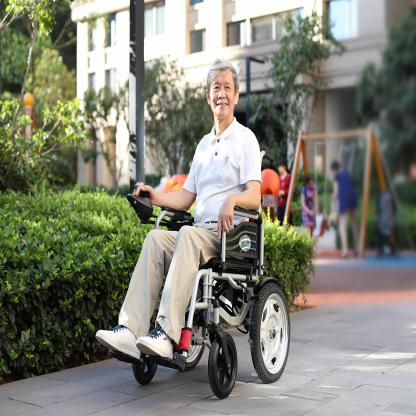wheelchair: (95, 59, 293, 403)
